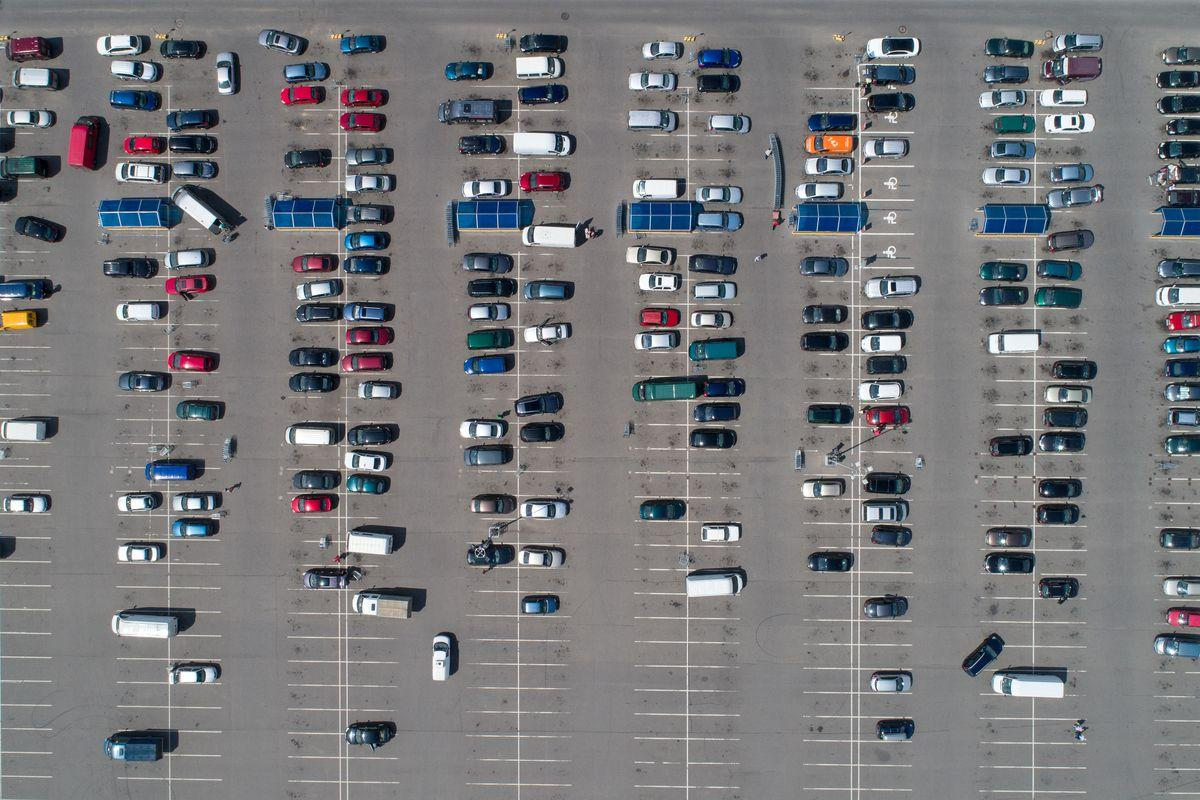car: (990, 668, 1076, 706), (956, 631, 1014, 683), (0, 30, 67, 69), (107, 610, 186, 643), (91, 248, 163, 283), (64, 113, 107, 168), (508, 128, 582, 158), (352, 591, 416, 624), (93, 31, 156, 64), (342, 522, 401, 557), (13, 214, 71, 249), (152, 32, 213, 65), (429, 96, 502, 123), (345, 717, 404, 749), (456, 325, 521, 354), (336, 348, 400, 377), (257, 24, 308, 60), (101, 735, 168, 762), (339, 322, 408, 348), (146, 459, 209, 487), (518, 320, 573, 352), (681, 574, 746, 601), (1034, 571, 1086, 604), (1042, 188, 1108, 214), (461, 352, 518, 382), (167, 103, 222, 134), (105, 87, 168, 114), (628, 108, 690, 135), (855, 376, 912, 405), (975, 254, 1030, 284), (4, 414, 55, 446), (1041, 60, 1106, 85), (454, 411, 508, 441), (868, 665, 920, 696), (984, 332, 1046, 358), (1035, 86, 1099, 111), (1030, 432, 1089, 459), (981, 35, 1037, 63), (344, 420, 400, 448), (519, 497, 573, 526), (460, 298, 514, 327), (112, 156, 166, 185), (283, 145, 335, 175), (1031, 286, 1088, 313), (342, 200, 395, 229), (862, 30, 916, 58), (340, 472, 394, 500), (524, 224, 582, 250), (3, 152, 55, 181), (1042, 114, 1102, 139), (280, 495, 340, 520), (117, 369, 172, 396), (340, 255, 393, 283), (289, 251, 342, 279), (630, 495, 687, 521), (338, 84, 395, 110), (1148, 285, 1199, 314), (214, 54, 245, 101), (1146, 630, 1198, 658), (292, 301, 348, 327), (1031, 474, 1081, 503), (524, 279, 577, 306), (459, 175, 512, 202), (1046, 32, 1101, 58), (1149, 249, 1195, 280), (170, 521, 227, 546), (1029, 501, 1076, 531), (692, 307, 739, 337), (859, 471, 913, 497), (114, 543, 168, 569), (344, 300, 400, 325), (168, 491, 224, 516), (875, 715, 923, 744), (107, 493, 165, 517), (287, 344, 340, 370), (350, 379, 401, 406), (289, 469, 340, 496), (519, 545, 568, 573), (342, 168, 391, 196), (509, 33, 574, 54), (1042, 361, 1104, 383), (511, 389, 563, 415), (344, 448, 396, 474), (696, 523, 746, 550), (298, 567, 354, 591), (286, 373, 334, 401), (693, 74, 751, 97), (517, 83, 575, 106), (803, 404, 854, 430), (465, 492, 516, 518), (861, 404, 914, 429), (804, 549, 857, 574), (117, 133, 166, 160), (1045, 228, 1100, 252), (803, 108, 858, 132), (1035, 407, 1092, 430), (982, 163, 1032, 189), (629, 72, 679, 98), (522, 169, 572, 195), (162, 668, 227, 688), (163, 245, 215, 270), (861, 271, 920, 293), (175, 401, 221, 429), (1153, 602, 1197, 631), (106, 58, 164, 80), (860, 496, 909, 522), (293, 274, 340, 301), (460, 444, 515, 467), (166, 276, 229, 296), (337, 32, 394, 54), (272, 86, 329, 108), (636, 37, 686, 62), (980, 524, 1028, 550), (634, 271, 686, 295), (621, 242, 669, 268), (695, 209, 747, 233), (6, 490, 54, 516), (165, 132, 224, 153), (866, 89, 915, 114), (431, 634, 457, 681), (799, 135, 860, 155), (459, 255, 512, 278), (2, 275, 57, 297), (868, 525, 918, 549), (519, 423, 567, 448), (462, 276, 512, 300), (340, 108, 388, 133), (279, 59, 329, 83), (1044, 164, 1096, 187), (981, 556, 1037, 577), (110, 301, 166, 322), (1032, 261, 1083, 284), (704, 115, 755, 138), (456, 132, 507, 155), (631, 178, 684, 200), (442, 60, 495, 82), (988, 437, 1036, 461), (985, 143, 1035, 166), (794, 257, 844, 280), (285, 426, 335, 449), (173, 159, 219, 184), (689, 342, 749, 361), (632, 383, 692, 402), (339, 231, 393, 252), (799, 479, 848, 502), (172, 354, 223, 376), (802, 156, 855, 177), (861, 137, 911, 159), (341, 146, 402, 164), (463, 547, 515, 568), (860, 311, 907, 334), (696, 404, 745, 426), (5, 108, 54, 130), (858, 334, 909, 355), (508, 58, 559, 79), (1154, 332, 1194, 358), (974, 89, 1026, 109), (694, 282, 746, 302), (637, 305, 682, 328), (690, 427, 734, 450), (696, 186, 749, 205), (990, 118, 1035, 140), (1160, 431, 1195, 459), (798, 182, 847, 202), (1154, 575, 1193, 600), (631, 338, 682, 357), (6, 311, 50, 333), (981, 286, 1023, 309), (692, 254, 740, 274), (798, 334, 843, 355), (1157, 529, 1194, 554), (705, 377, 747, 399), (862, 354, 908, 374), (1036, 387, 1092, 403), (797, 305, 844, 324), (1156, 354, 1193, 378), (1157, 312, 1199, 333), (976, 68, 1027, 85), (1151, 140, 1194, 160), (863, 601, 910, 619), (1160, 42, 1195, 66), (523, 597, 565, 617), (1155, 378, 1193, 400), (1160, 118, 1196, 141), (864, 69, 918, 84), (1153, 96, 1197, 114), (696, 47, 736, 66), (1153, 69, 1195, 86), (1162, 408, 1191, 427)
